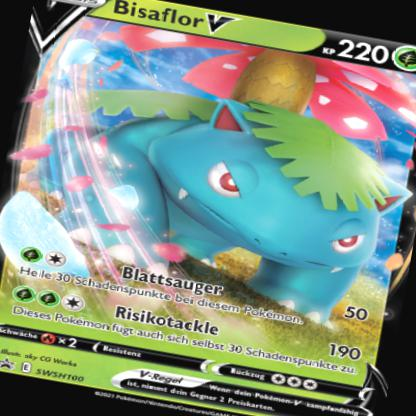Venusaur: (40, 20, 416, 340)
